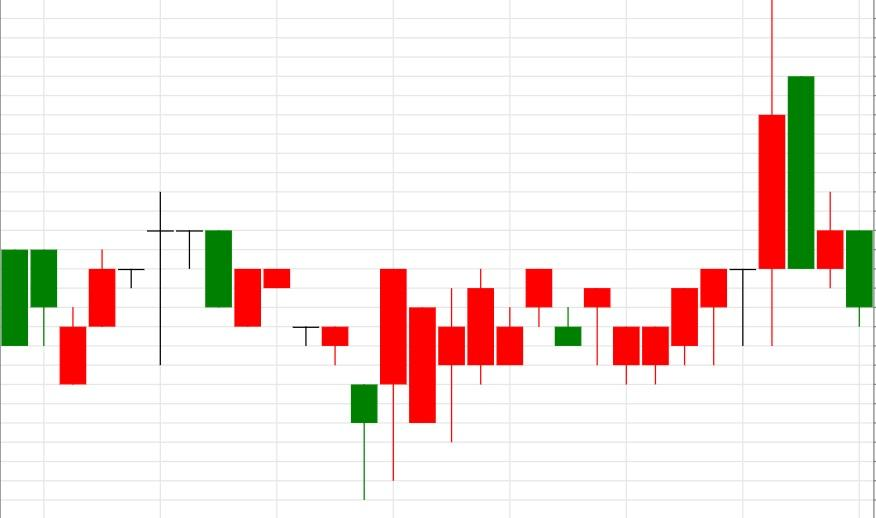hammer_rise: (146, 190, 378, 499)
